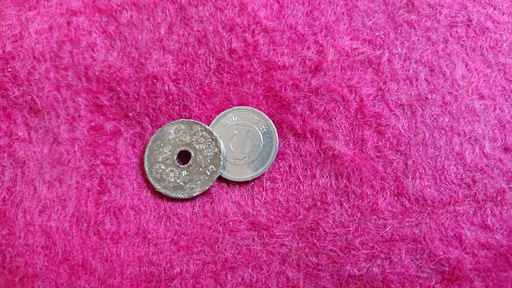1yen: (209, 106, 278, 181)
50yen: (144, 119, 225, 199)
